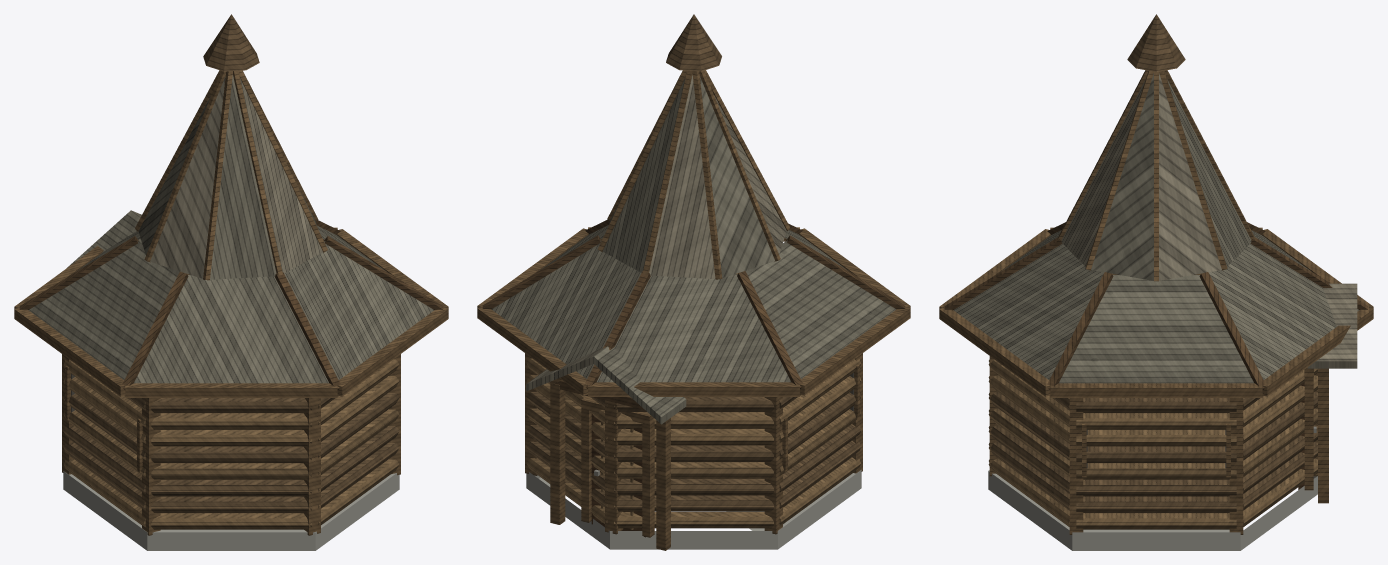
File: medieval_hexagonal_roof_house.glb
3 renders of one model, left to right at view 1: azimuth 30°, elevation 25°; view 2: azimuth 150°, elevation 25°; view 3: azimuth 270°, elevation 25°, orthographic.
Visible parts, largest first — view 1: Medieval_Hexagonal_Roof_House; view 2: Medieval_Hexagonal_Roof_House; view 3: Medieval_Hexagonal_Roof_House.
Part boxes in pixels (box(x1,y1,x2,y2)): Medieval_Hexagonal_Roof_House: box(14, 14, 448, 550); Medieval_Hexagonal_Roof_House: box(477, 14, 910, 550); Medieval_Hexagonal_Roof_House: box(939, 14, 1373, 550).
Size of the model in its own units: 5.56 by 7.7 by 6.38.
Materials: 11 (7 with a texture image).
